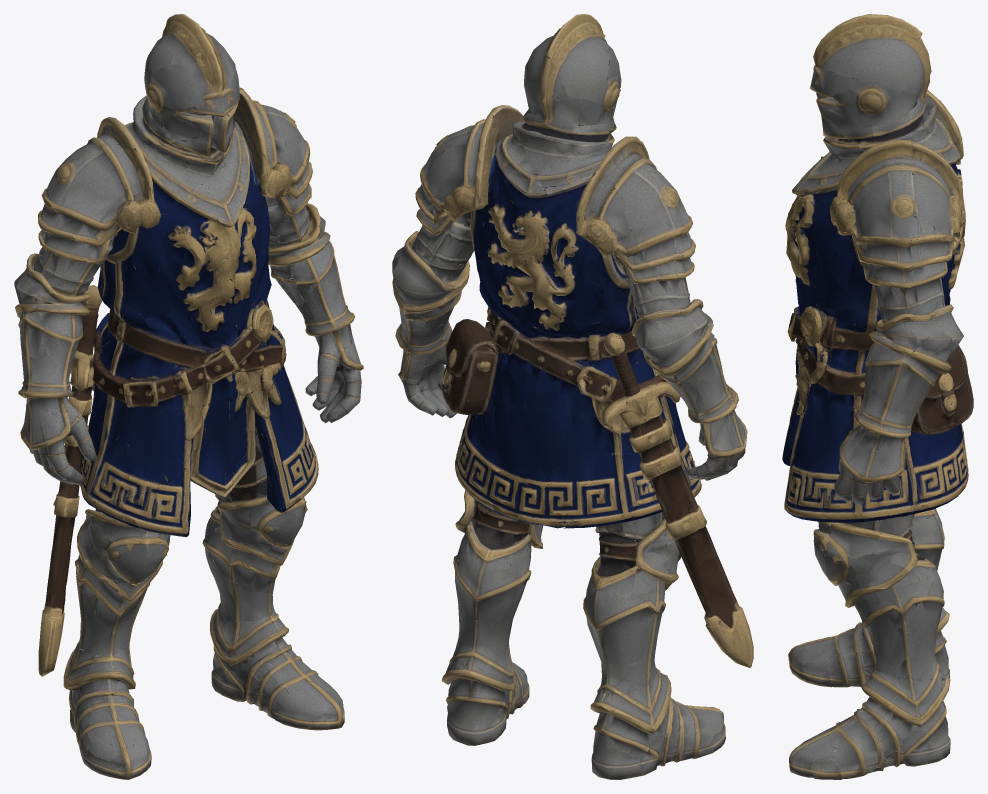
The model's file is aldric_meshy_retopo.glb.
3 renders of one model, left to right at view 1: azimuth 30°, elevation 25°; view 2: azimuth 150°, elevation 25°; view 3: azimuth 270°, elevation 25°, orthographic.
Visible parts, largest first — view 1: Mesh_0; view 2: Mesh_0; view 3: Mesh_0.
Part boxes in pixels (x1,y1,x2,y2): Mesh_0: (14, 14, 363, 779); Mesh_0: (392, 14, 753, 779); Mesh_0: (782, 14, 973, 779).
Size of the model in its own units: 0.9335 by 1.9 by 0.4686.
1 material, 1 textured.
